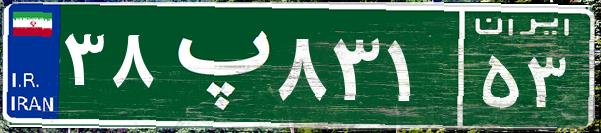1: (385, 28, 445, 110)
3: (330, 28, 385, 110), (57, 26, 110, 107), (525, 38, 570, 115)
5: (475, 38, 525, 113)
8: (273, 28, 330, 110), (110, 28, 158, 105)
پ: (158, 15, 273, 115)
